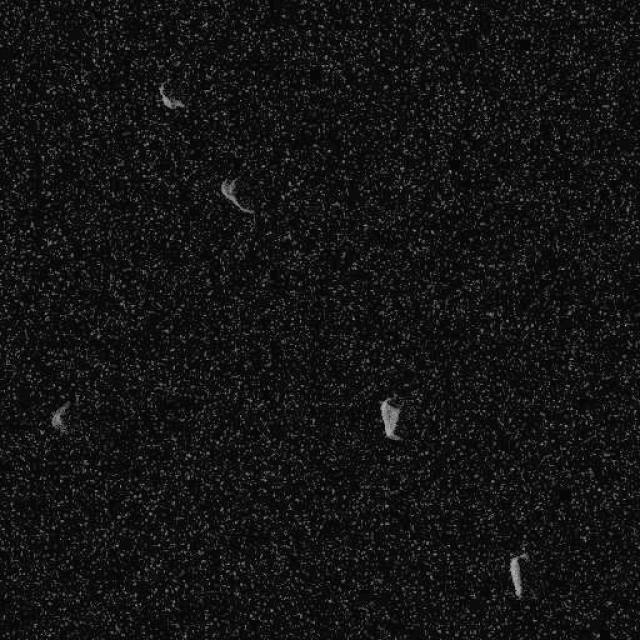D2: (219, 175, 255, 215), (378, 396, 404, 442), (508, 552, 528, 598), (156, 81, 185, 111), (49, 400, 71, 434)
